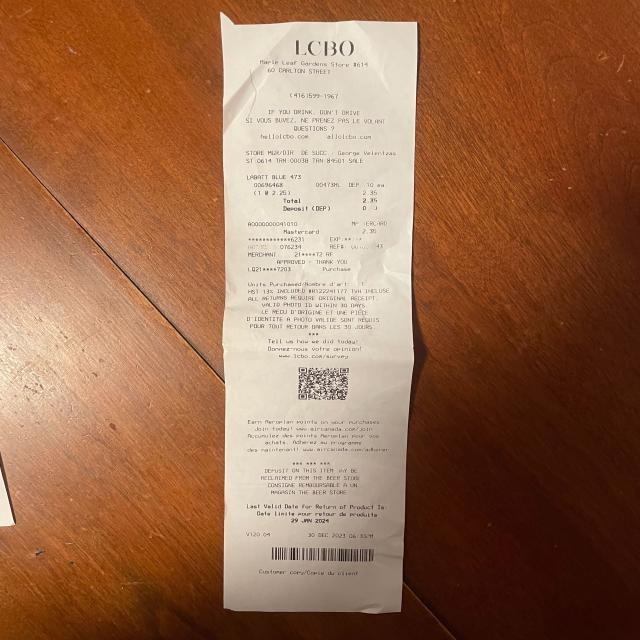item: (241, 172, 394, 198)
store_name: (292, 36, 358, 59)
total_amount: (281, 196, 383, 206)
transaction_date: (305, 529, 348, 541)
